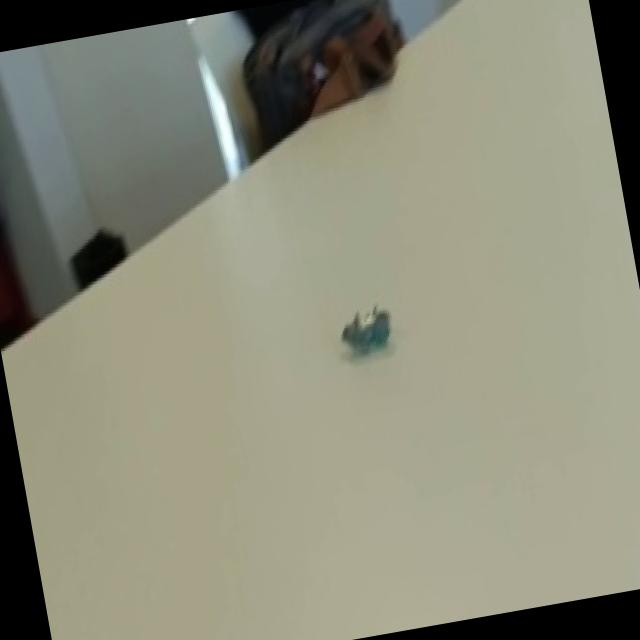5_NanoBug_GrisClaro: (315, 281, 423, 379)
